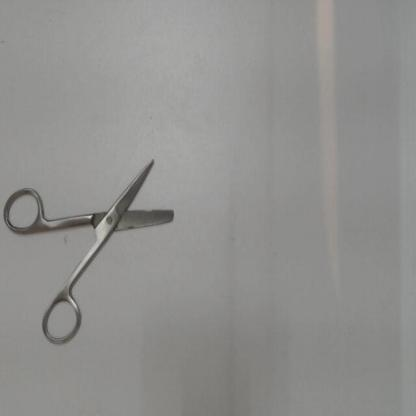Dressing Scissors: (0, 152, 182, 352)
